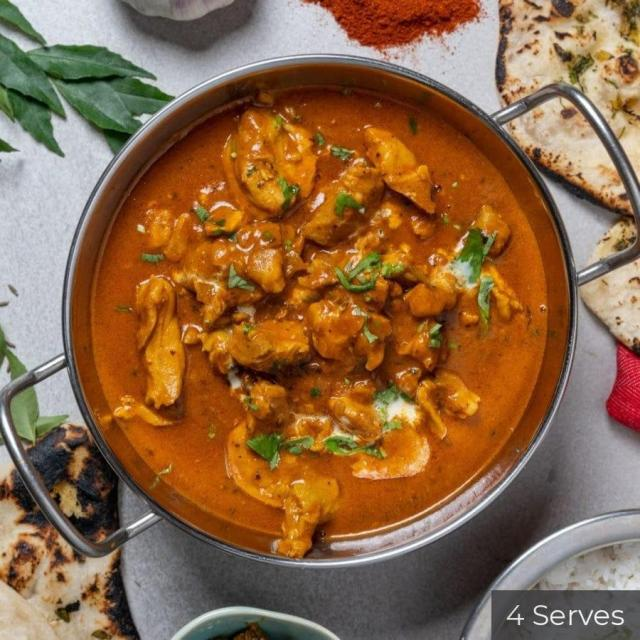chicken: (100, 106, 530, 522)
roti: (519, 0, 640, 346)
